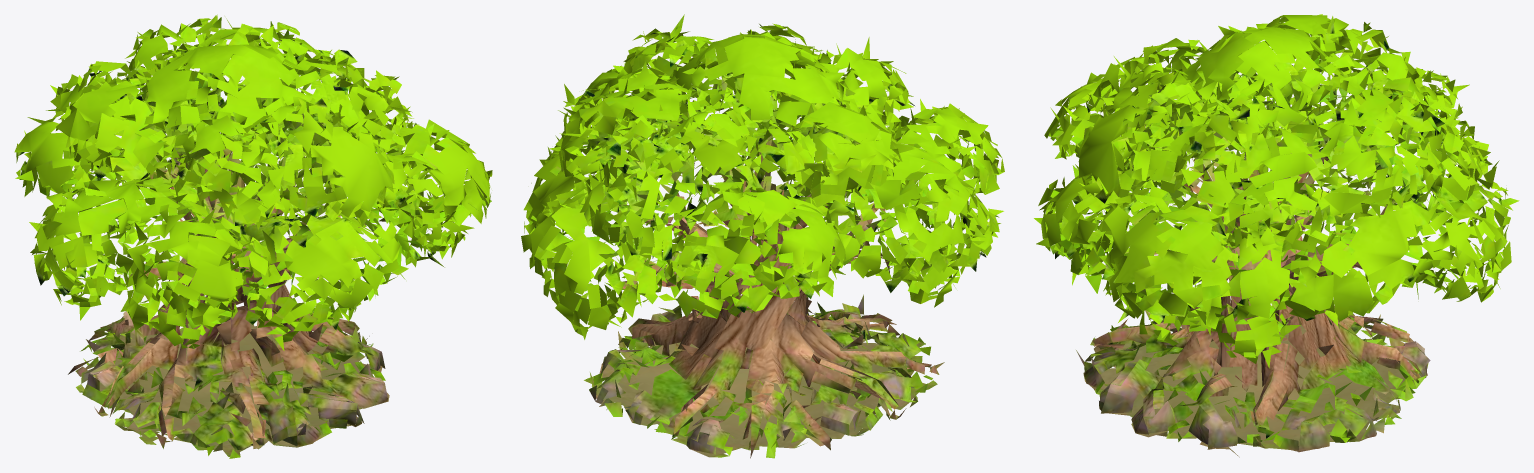
Rendered from canopy.glb.
The picture shows the model from 3 angles, left to right: view 1: azimuth 30°, elevation 25°; view 2: azimuth 150°, elevation 25°; view 3: azimuth 270°, elevation 25°; orthographic projection. The views are drawn at different scales.
Parts seen in each view (by area): view 1: Lush Canopy Tree v2; view 2: Lush Canopy Tree v2; view 3: Lush Canopy Tree v2.
Boxes of the visible parts, <box> form: Lush Canopy Tree v2: <box>14,14,492,458</box>; Lush Canopy Tree v2: <box>521,14,1004,458</box>; Lush Canopy Tree v2: <box>1034,14,1519,457</box>.
Size of the model in its own units: 12 by 9.31 by 11.32.
1 material, 1 textured.
